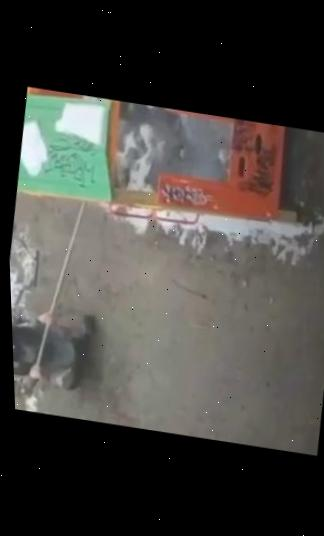person: (11, 301, 99, 409)
